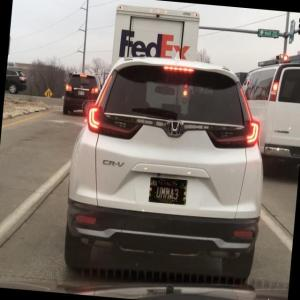Plate: (148, 176, 189, 206)
